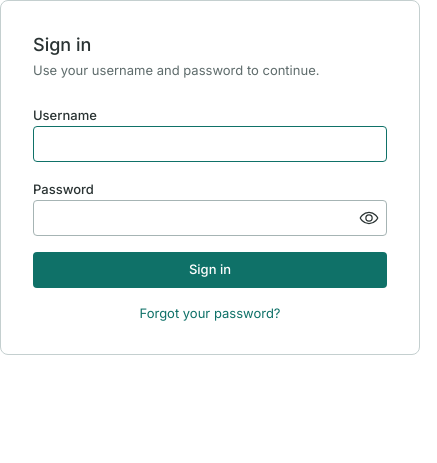
LoginForm › explains a deactivated account rather than blaming the password
In the field labelled "Username": (210, 144) [33,126,387,162], type "dr.menon"
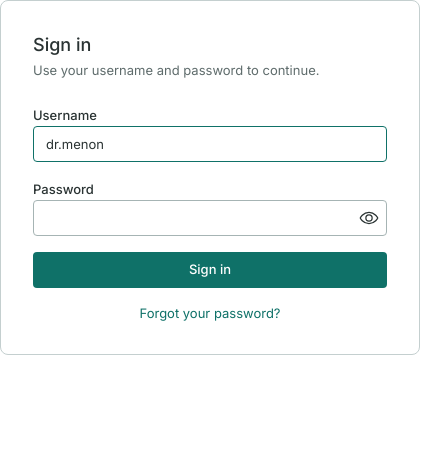
In the password field labelled "Password": (210, 218) [34,200,386,234], type "CorrectHorse1!"
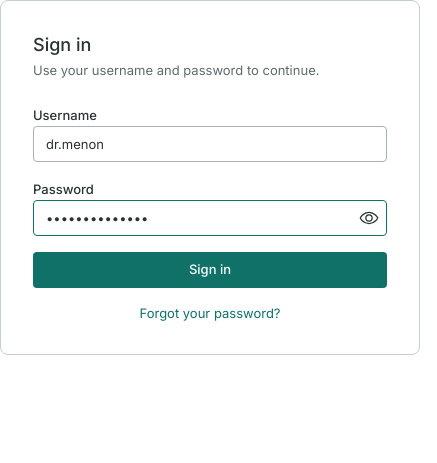
Click the button "Sign in": click(210, 270) [33,252,387,288]
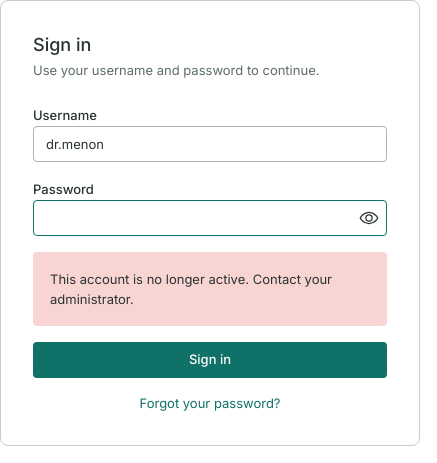
expect the message reads "This account is no longer active. Contact your administrator.": met, box [50,270,332,307]
